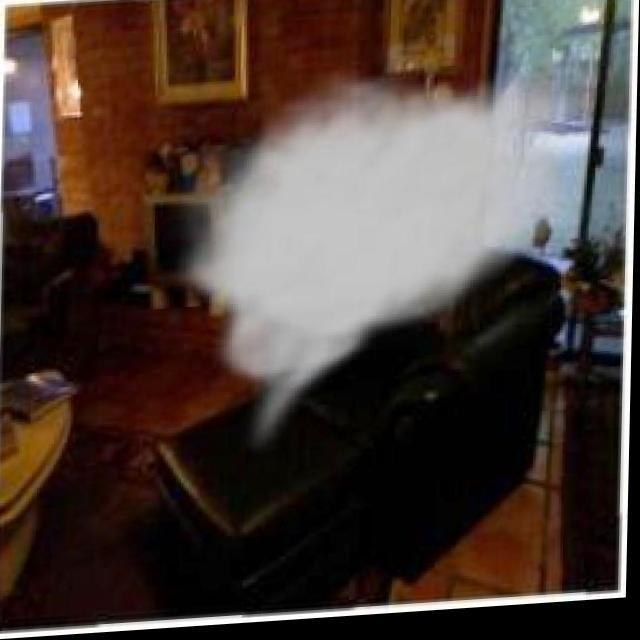Smoke: (174, 59, 568, 442)
